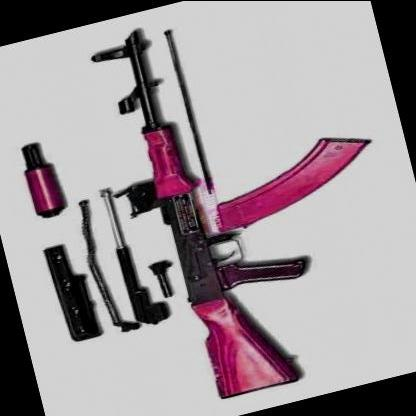rifle: (80, 0, 416, 416)
